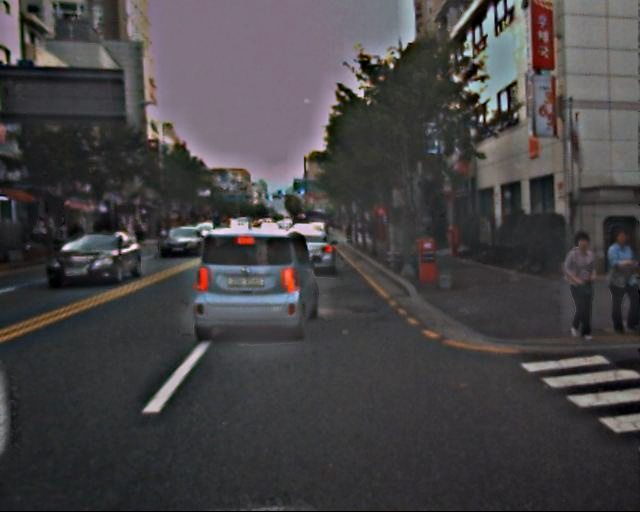person: (553, 233, 602, 342), (595, 229, 640, 336)
